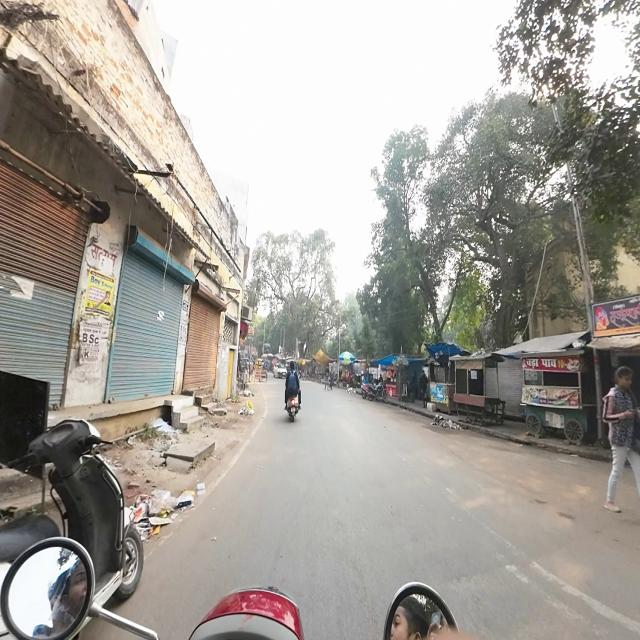Garbage: (124, 489, 194, 522), (435, 413, 456, 430)
